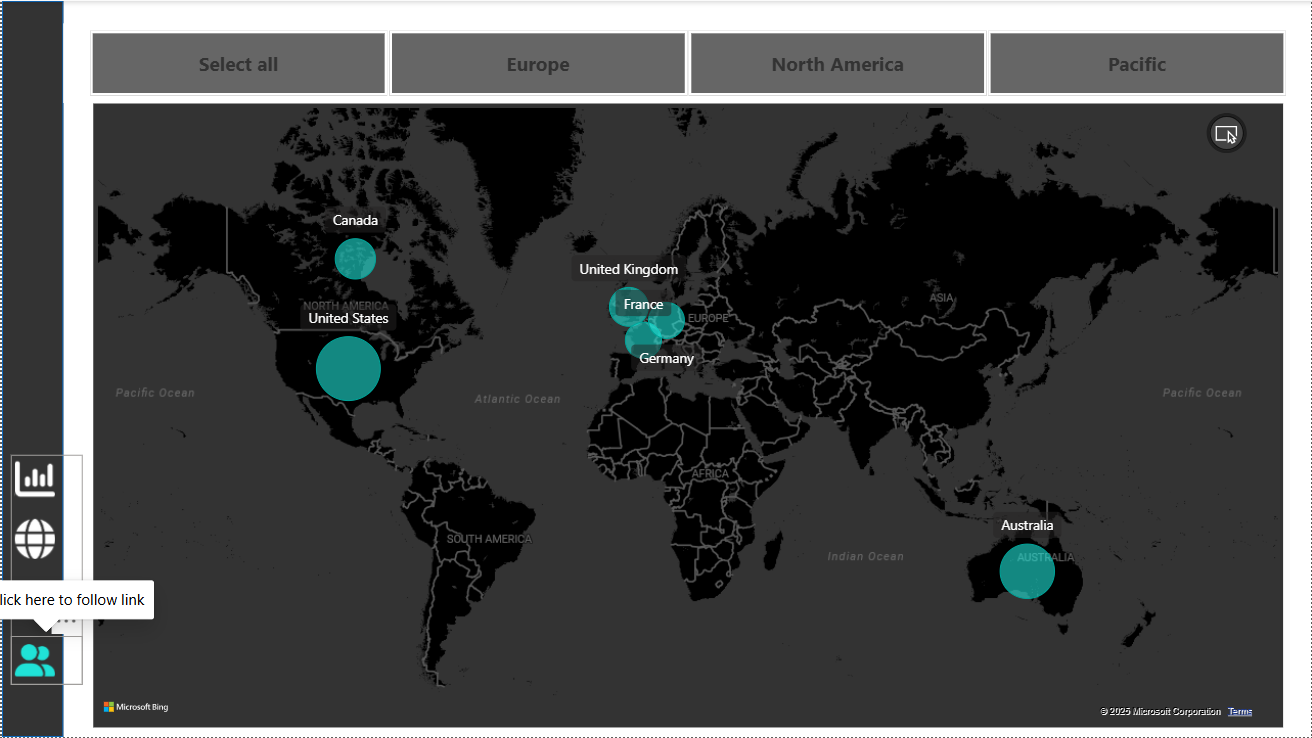

The page's visual inventory and layout, read from the dashboard file:
{"tool":"powerbi","page":{"name":"Map","canvas":[1280,720],"ordinal":1},"visuals":[{"type":"shape","box":[0,0,60,720],"z":0},{"type":"map","fields":{"Category":["Territory Lookup.Country"],"Size":["Measure Table.Total Orders"]},"box":[88.8,100,1163.8,610],"z":1000},{"type":"actionButton","box":[8.8,503,70,47.5],"z":1000,"group":"g1"},{"type":"slicer","fields":{"Values":["Territory Lookup.Continent"]},"box":[60,22.5,1220,77.5],"z":2000},{"type":"actionButton","box":[8.8,443.8,70,47.5],"z":2000,"group":"g1"},{"type":"group","id":"g1","title":"Navigation Buttons","box":[8.8,443.8,70,225],"z":3000},{"type":"actionButton","box":[8.8,562.1,70,47.5],"z":3000,"group":"g1"},{"type":"actionButton","box":[8.8,621.3,70,47.5],"z":4000,"group":"g1"}]}

Visuals, with their boxes on the page's 1280x720 design canvas (x1, y1, x2, y2). These are canvas units, not pixel positions in the 1312x738 screenshot, which may show the page scaled, cropped or inside an application window:
shape: box=[0, 0, 60, 720]
map - Territory Lookup.Country x Measure Table.Total Orders: box=[89, 100, 1253, 710]
actionButton: box=[9, 503, 79, 550]
slicer - Territory Lookup.Continent: box=[60, 22, 1280, 100]
actionButton: box=[9, 444, 79, 491]
"Navigation Buttons" group: box=[9, 444, 79, 669]
actionButton: box=[9, 562, 79, 610]
actionButton: box=[9, 621, 79, 669]
